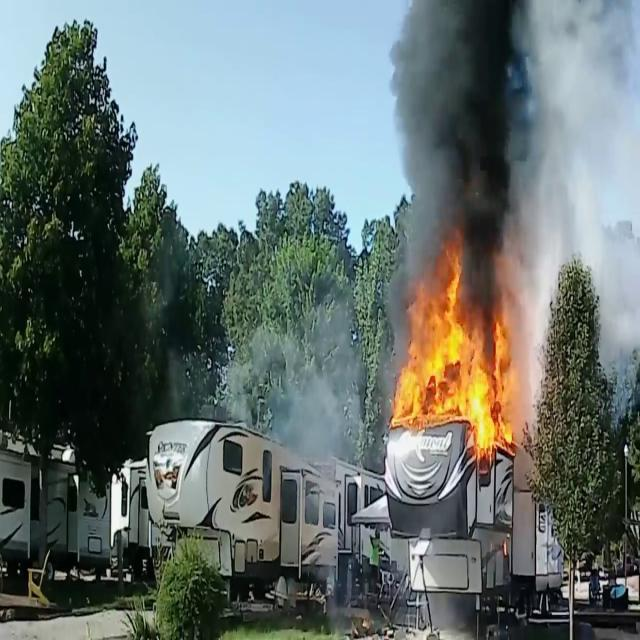Fire: (389, 253, 521, 454)
Smoke: (384, 1, 556, 298), (266, 278, 368, 528), (590, 181, 640, 394)
